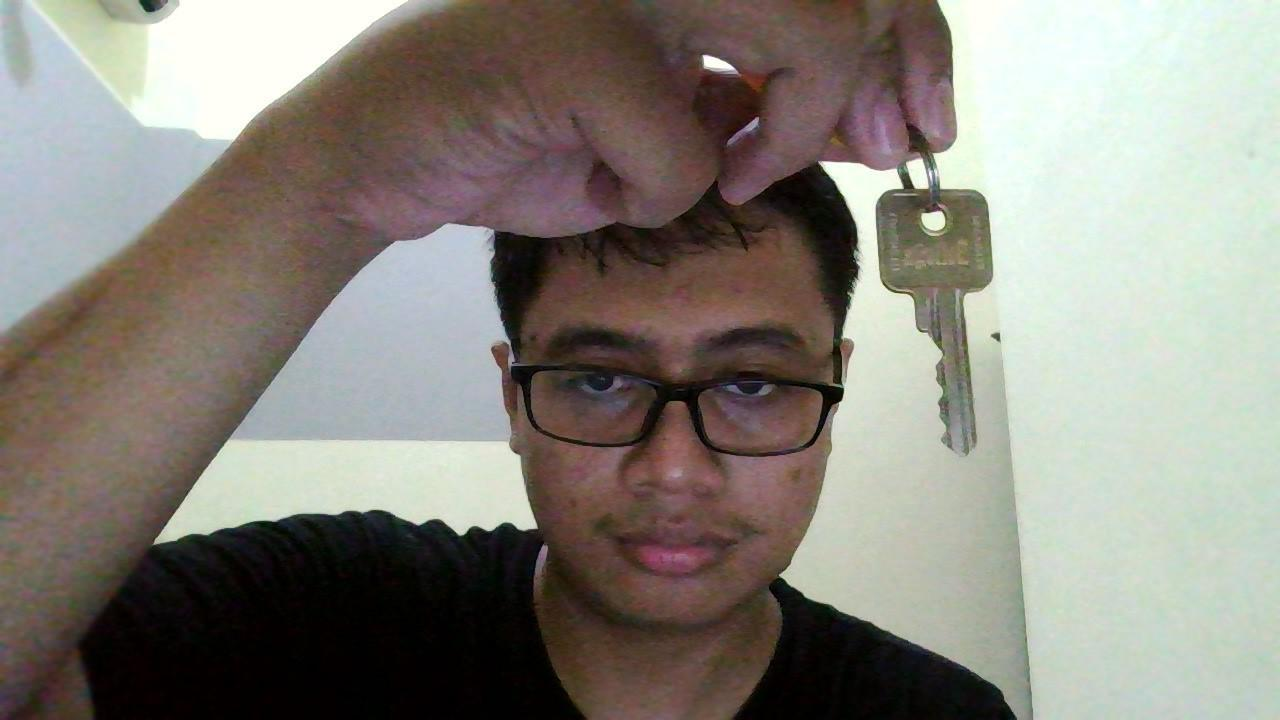keys: (868, 177, 998, 475)
